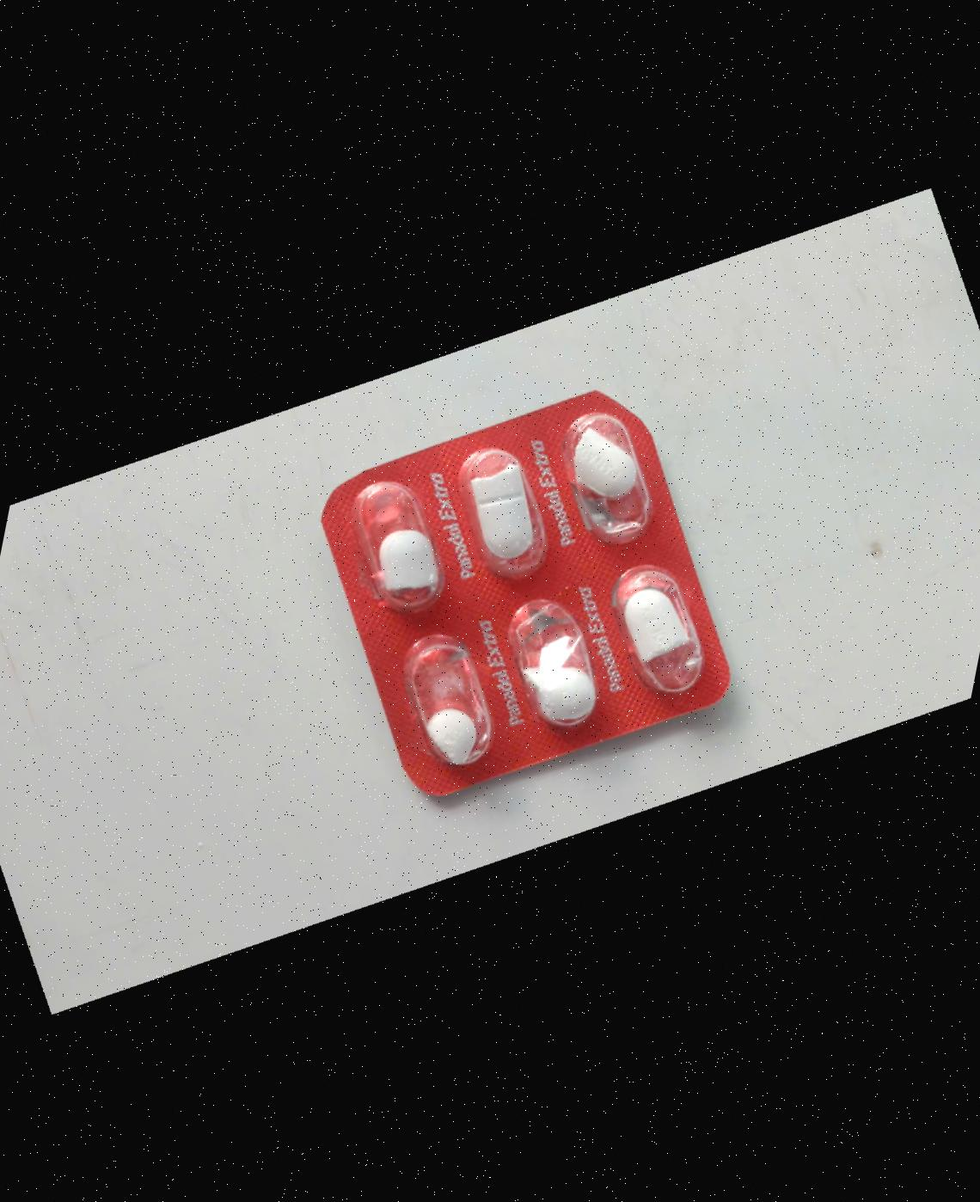Partial: (330, 457, 460, 621), (543, 392, 673, 556), (432, 427, 562, 591), (593, 548, 723, 711), (382, 625, 512, 788), (490, 580, 619, 744)
